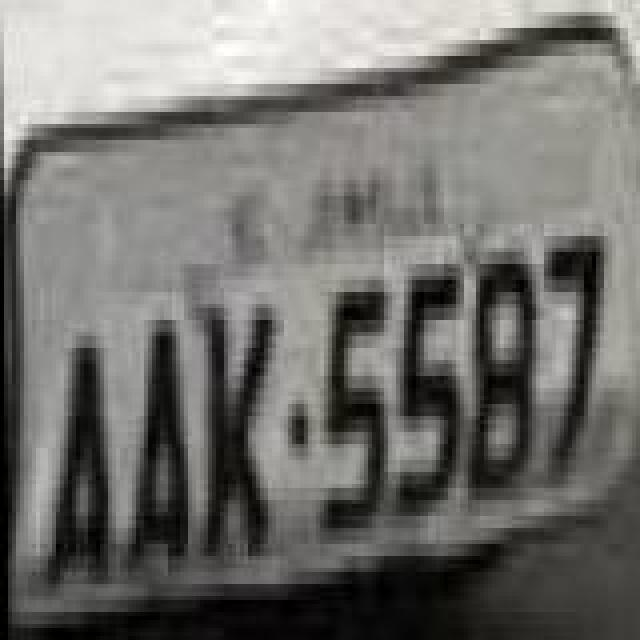5: (308, 276, 388, 540), (388, 266, 468, 518)
7: (536, 226, 608, 478)
8: (466, 250, 534, 502)
A: (118, 316, 198, 580), (42, 332, 114, 596)
K: (192, 300, 284, 564)
